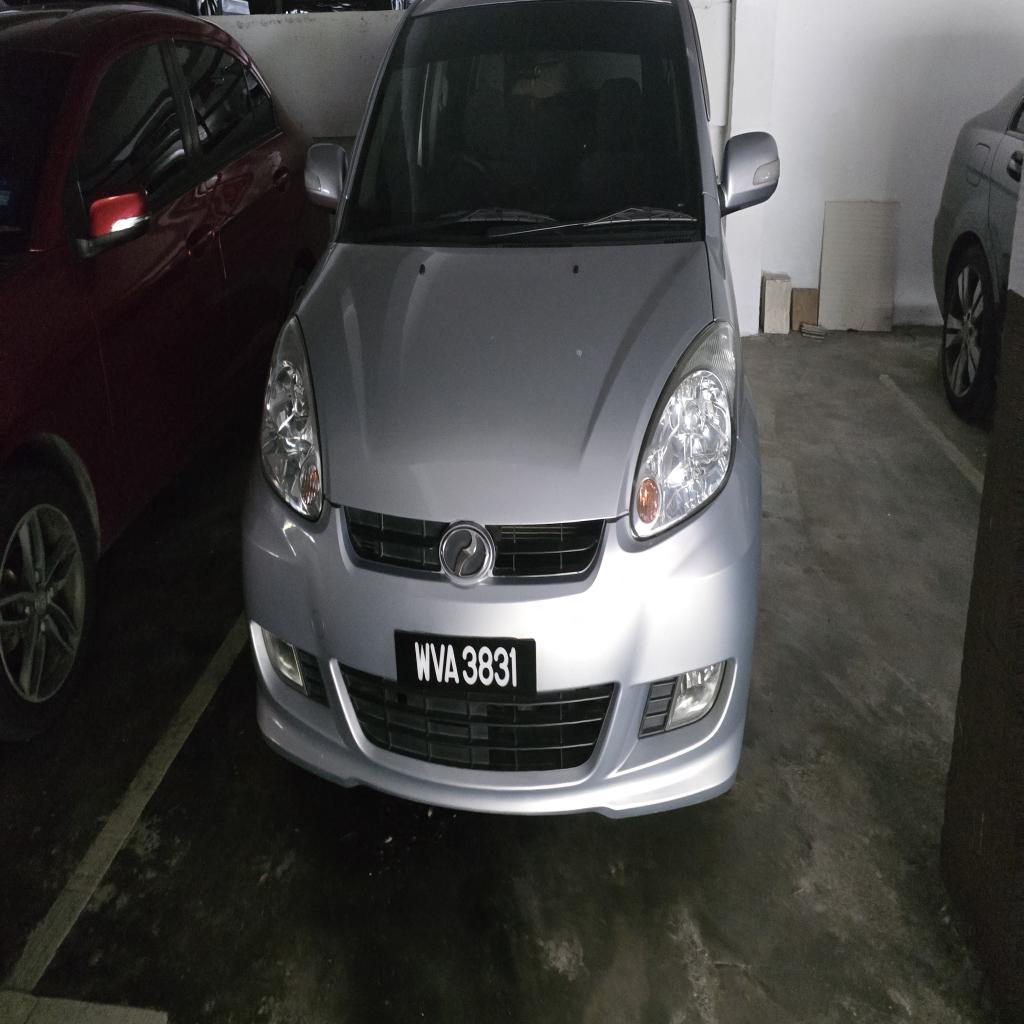car: (244, 0, 778, 815)
car plate: (395, 631, 536, 698)
